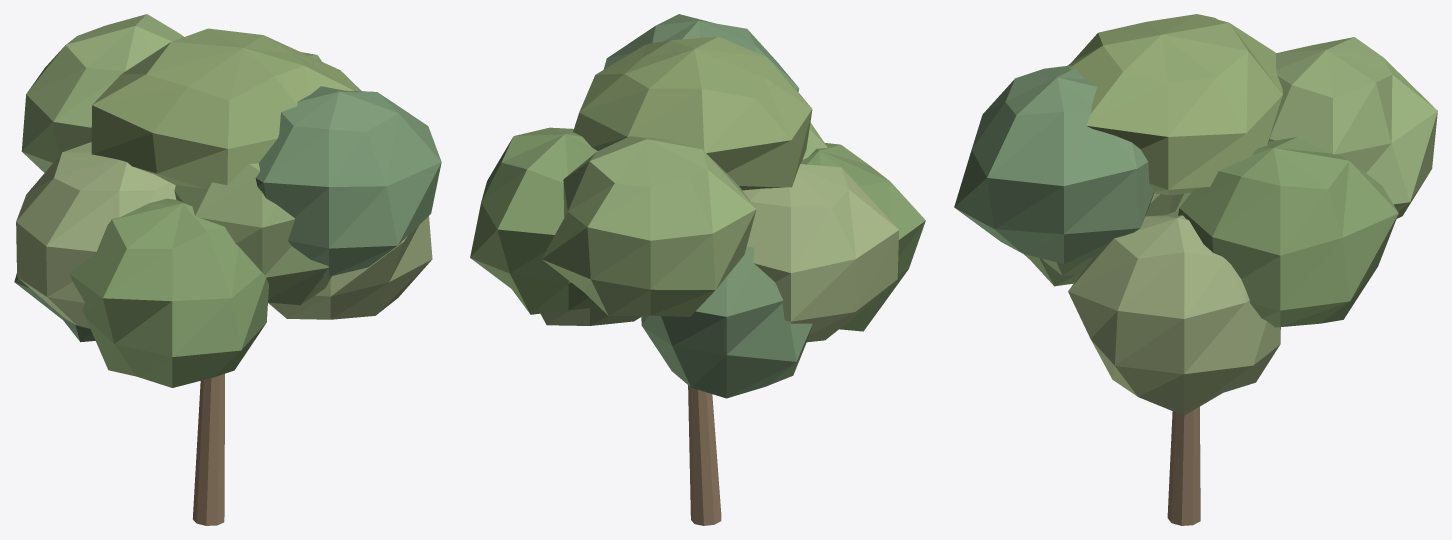
3 views of the same model, side by side, from view 1: azimuth 30°, elevation 25°; view 2: azimuth 150°, elevation 25°; view 3: azimuth 270°, elevation 25° (orthographic). The views are drawn at different scales.
Size of the model in its own units: 7.14 by 8.33 by 7.36.
